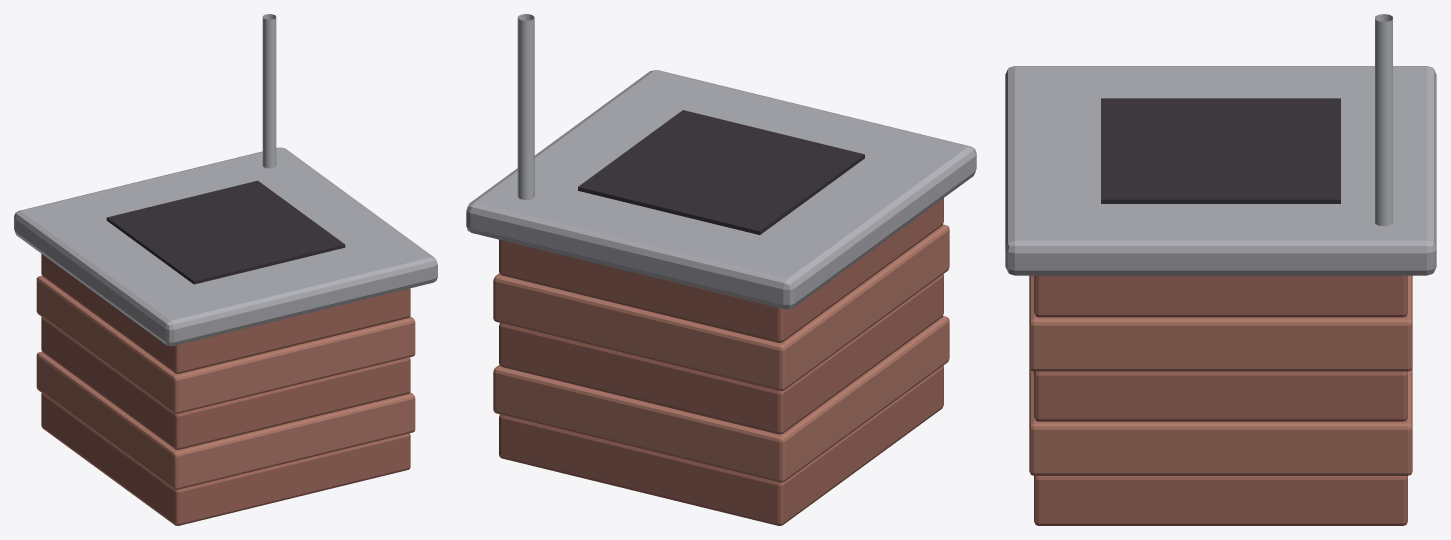
File: chimney_antenna.glb
3 views of the same model, side by side, from view 1: azimuth 30°, elevation 25°; view 2: azimuth 150°, elevation 25°; view 3: azimuth 270°, elevation 25° (orthographic). The views are drawn at different scales.
Parts seen in each view (by area): view 1: chimney_antenna; view 2: chimney_antenna; view 3: chimney_antenna.
Boxes of the visible parts, left/top/right/bottom form: chimney_antenna: left=14, top=14, right=437, bottom=525; chimney_antenna: left=466, top=14, right=976, bottom=525; chimney_antenna: left=1005, top=14, right=1436, bottom=525.
Size of the model in its own units: 0.9 by 1.15 by 0.9.
